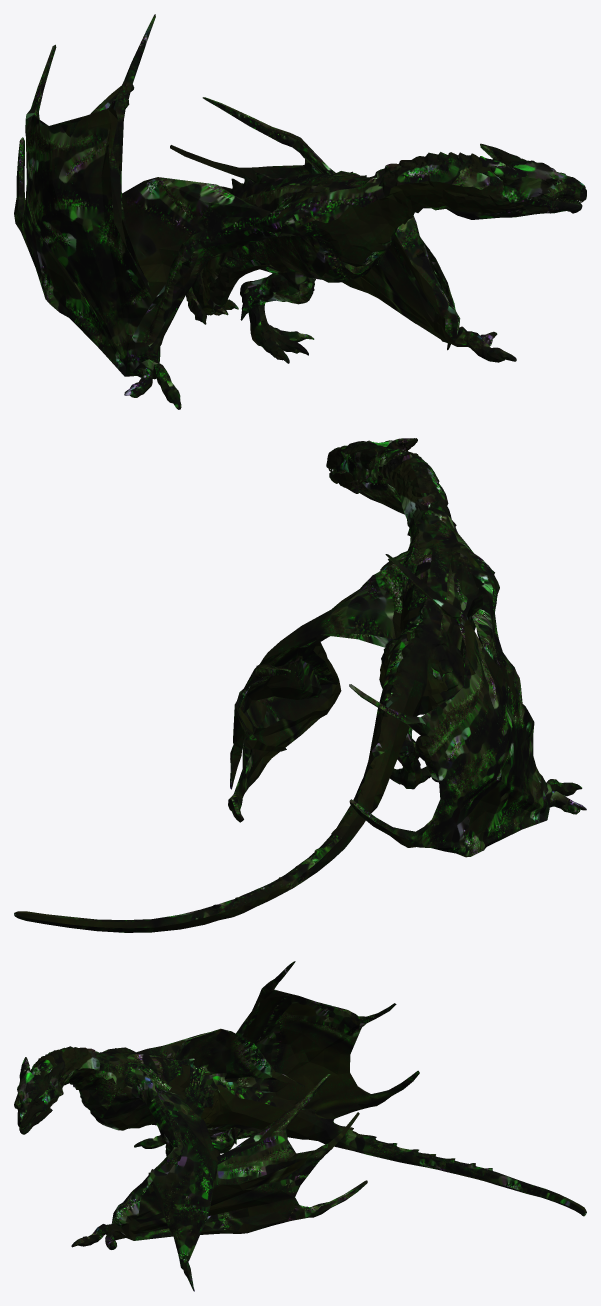
The model's file is frame_0005_uv.obj.
3 renders of one model, top to bottom at view 1: azimuth 30°, elevation 25°; view 2: azimuth 150°, elevation 25°; view 3: azimuth 270°, elevation 25°, orthographic. The views are drawn at different scales.
Parts seen in each view (by area): view 1: pMesh1; view 2: pMesh1; view 3: pMesh1.
Part boxes in pixels (x1,y1,x2,y2): pMesh1: [14, 14, 586, 409]; pMesh1: [14, 438, 586, 932]; pMesh1: [14, 961, 586, 1291].
Bounding box in the file's own units: 1.17 × 1.05 × 2.19.
